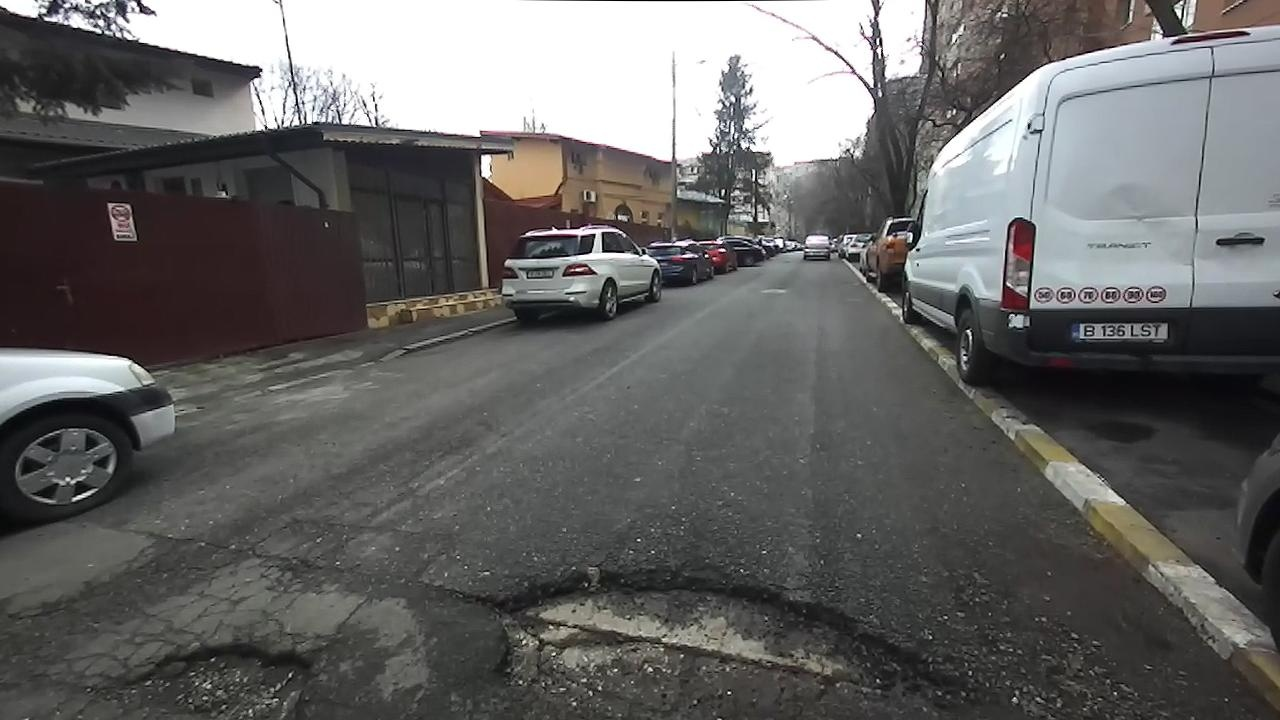pothole: (456, 558, 1016, 718), (79, 636, 311, 720)
